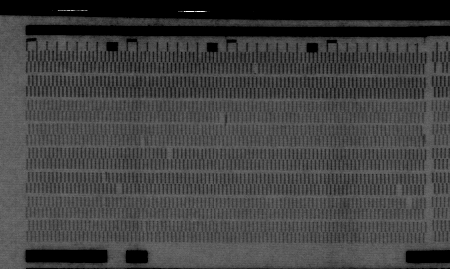Broken hole: (249, 63, 261, 78), (433, 62, 445, 76), (217, 111, 229, 124), (404, 196, 415, 209), (164, 147, 175, 159), (114, 182, 124, 194), (394, 184, 403, 197)
Oblique printing: (138, 135, 150, 148), (99, 171, 111, 184)
